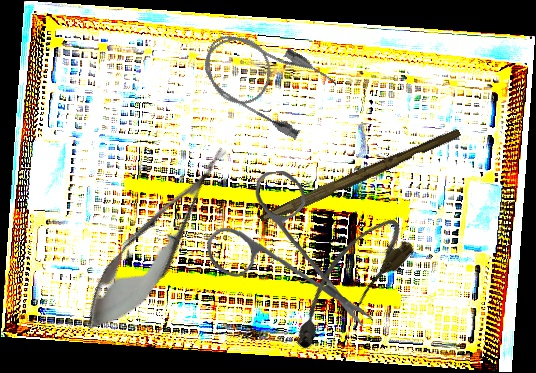Cannula: (273, 208, 421, 358), (190, 14, 341, 145)
Iris Scissors: (202, 166, 373, 335)
Micro Scissor: (69, 133, 246, 346)
Scalpel Handle: (258, 123, 463, 230)
